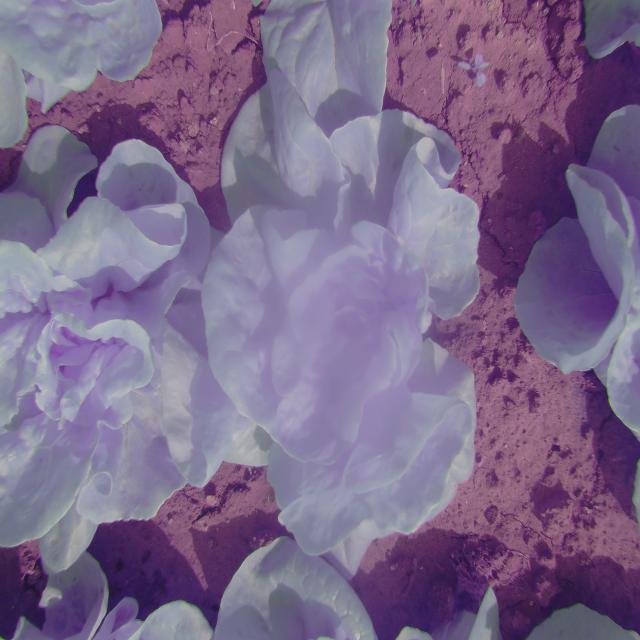vege: (201, 83, 520, 564)
